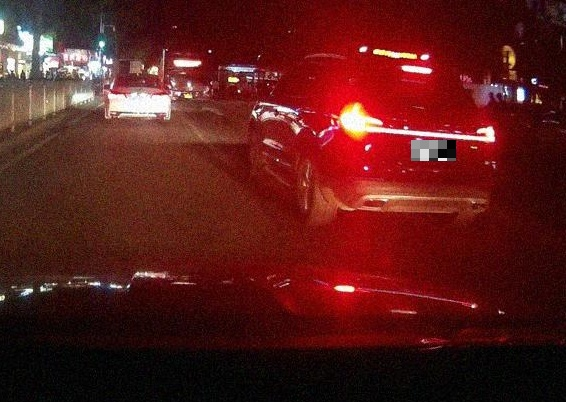L_light: (339, 112, 385, 134), (110, 88, 131, 94)
R_light: (475, 126, 496, 143), (149, 89, 170, 95)
T_light: (400, 65, 434, 75), (134, 75, 144, 78)
night-left: (310, 55, 497, 231)
night-no: (104, 74, 171, 122)
plate_1: (411, 140, 456, 161)
